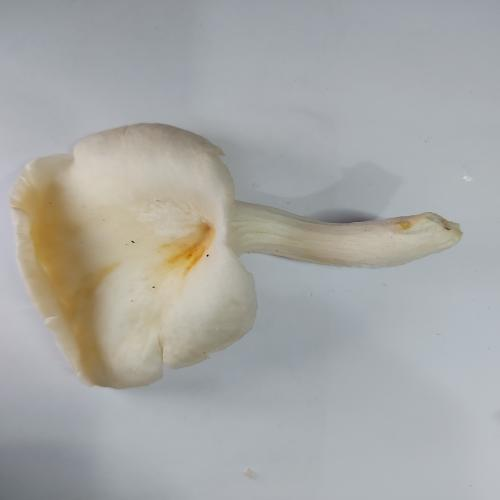Oyster Mushroom: (8, 122, 464, 390)
